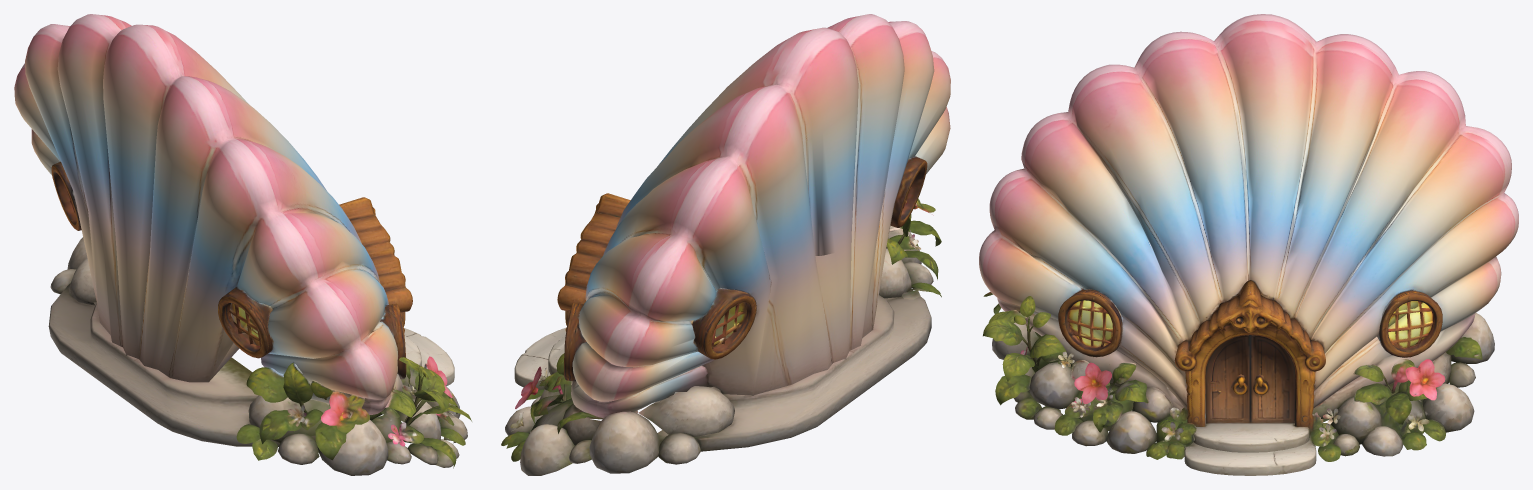
Rendered from ch01-shell-house.glb.
3 views of the same model, side by side, from view 1: azimuth 30°, elevation 25°; view 2: azimuth 150°, elevation 25°; view 3: azimuth 270°, elevation 25° (orthographic). The views are drawn at different scales.
Visible parts, largest first — view 1: tripo_node_44d3f865-6827-404f-8288-00bef4b346b2; view 2: tripo_node_44d3f865-6827-404f-8288-00bef4b346b2; view 3: tripo_node_44d3f865-6827-404f-8288-00bef4b346b2.
Part boxes in pixels (x1=…): tripo_node_44d3f865-6827-404f-8288-00bef4b346b2: x1=14, y1=14, x2=471, y2=475; tripo_node_44d3f865-6827-404f-8288-00bef4b346b2: x1=501, y1=14, x2=950, y2=475; tripo_node_44d3f865-6827-404f-8288-00bef4b346b2: x1=979, y1=14, x2=1518, y2=475.
Size of the model in its own units: 0.6138 by 0.7007 by 0.9995.
Materials: 1 (1 with a texture image).
